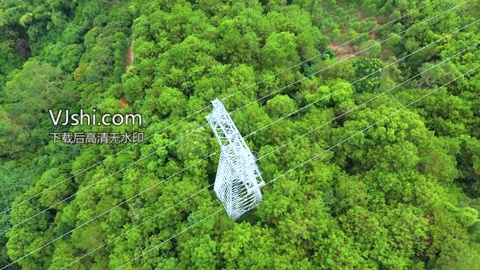tower_body: (202, 95, 269, 218)
